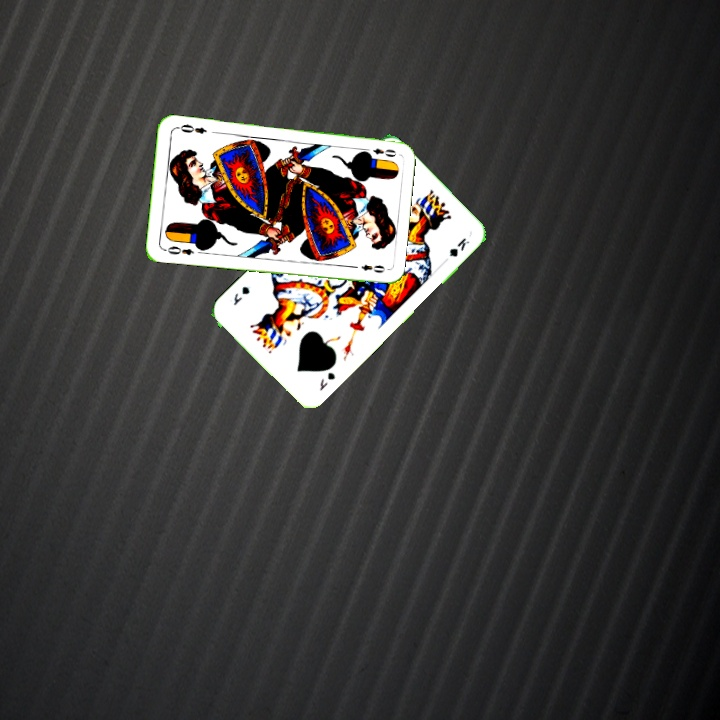EO: (359, 144, 399, 159), (164, 242, 197, 257)
GK: (315, 368, 338, 393)
